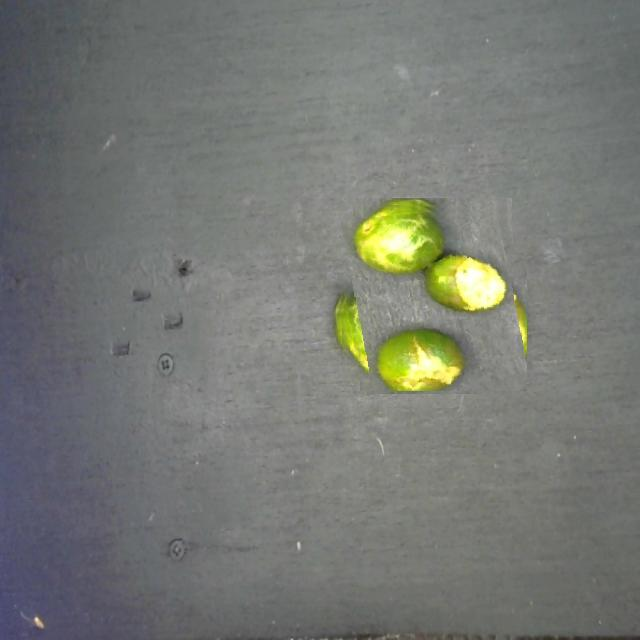biodegradable: (337, 201, 527, 391)
